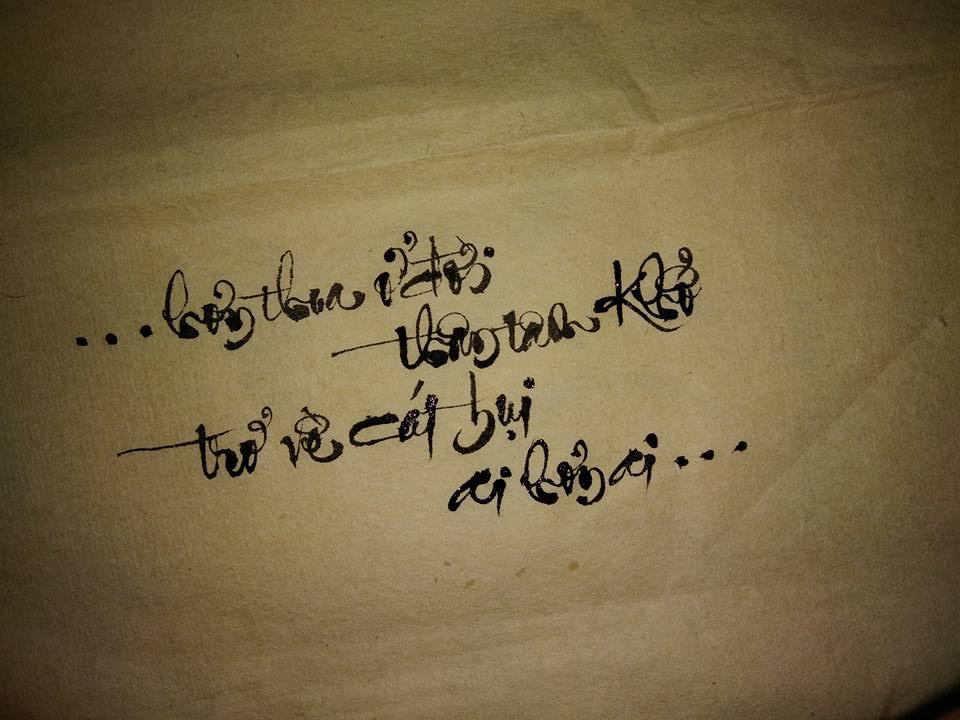text: (70, 222, 497, 355), (113, 367, 539, 488), (329, 242, 706, 377), (443, 426, 750, 520)
